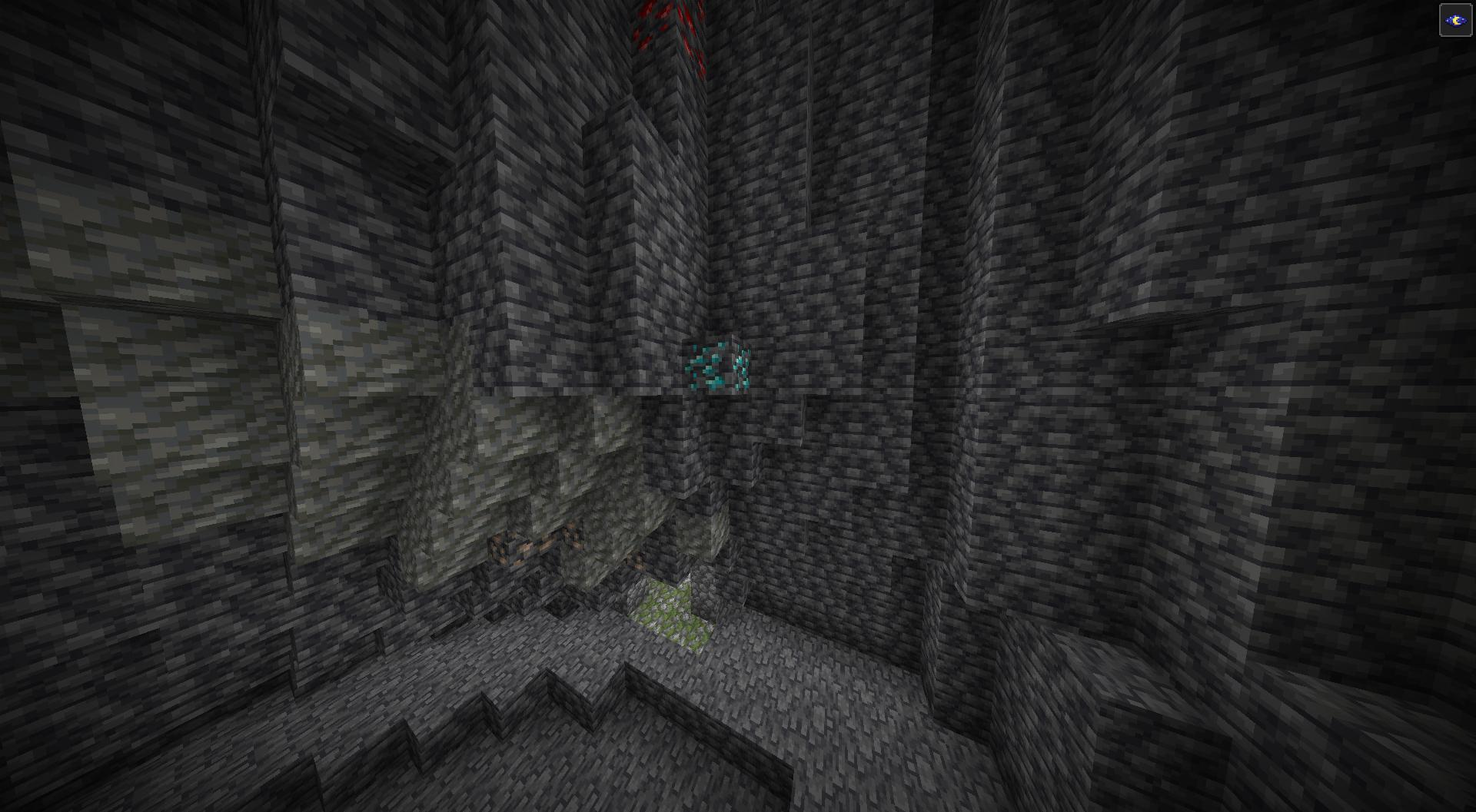diamond ore: (690, 344, 760, 393)
iron ore: (490, 523, 550, 566), (551, 516, 589, 552), (625, 540, 648, 575)
redstone ore: (629, 0, 711, 59)
